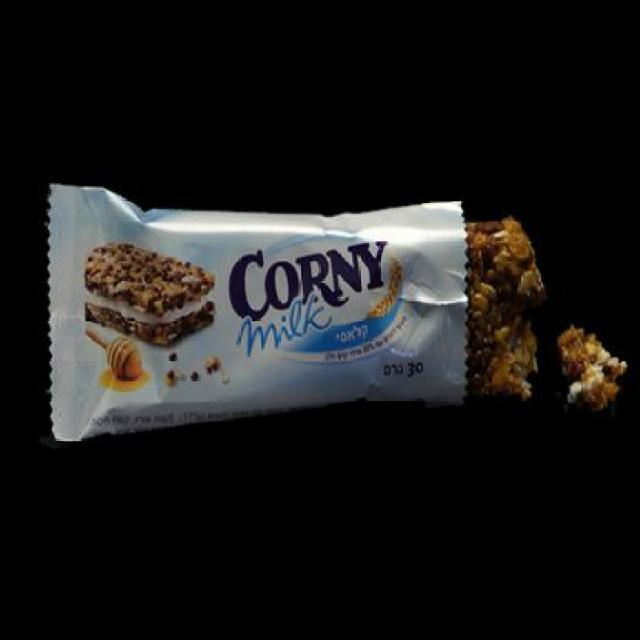Cereal bar: (43, 178, 472, 436)
